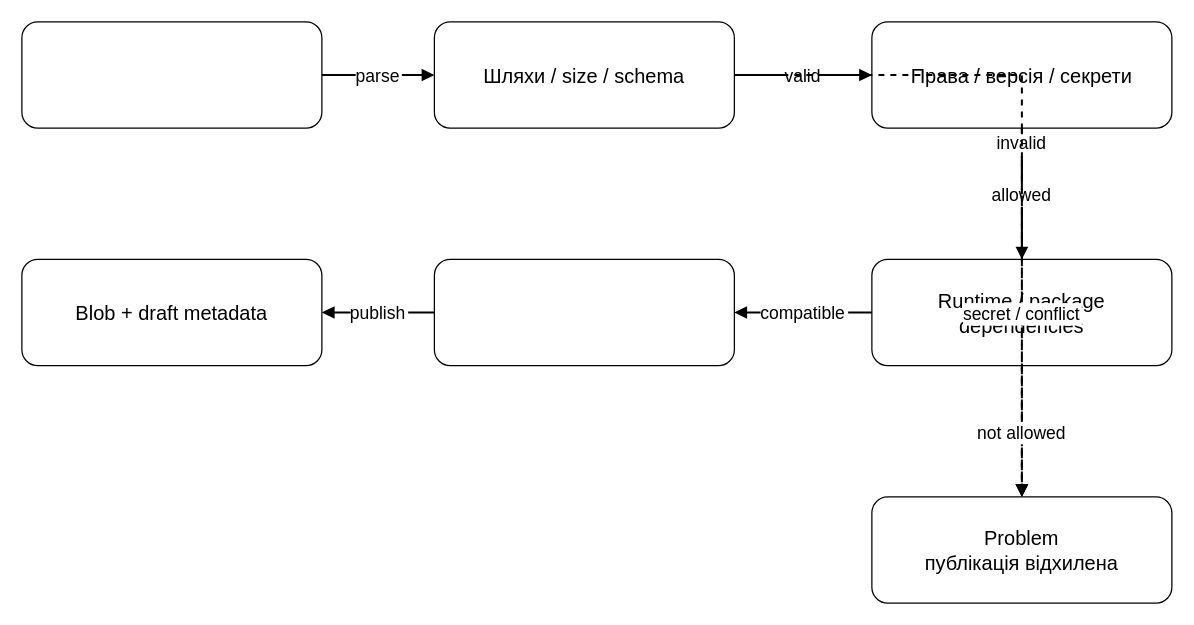
Image size: 1194x625. Some labels were removed from this diagram. The centre of each missing label's shape, as x and y in pixels:
"Canonical ZIP + digest" belongs at point 583,312.
"ZIP / JSON upload" belongs at point 171,74.
